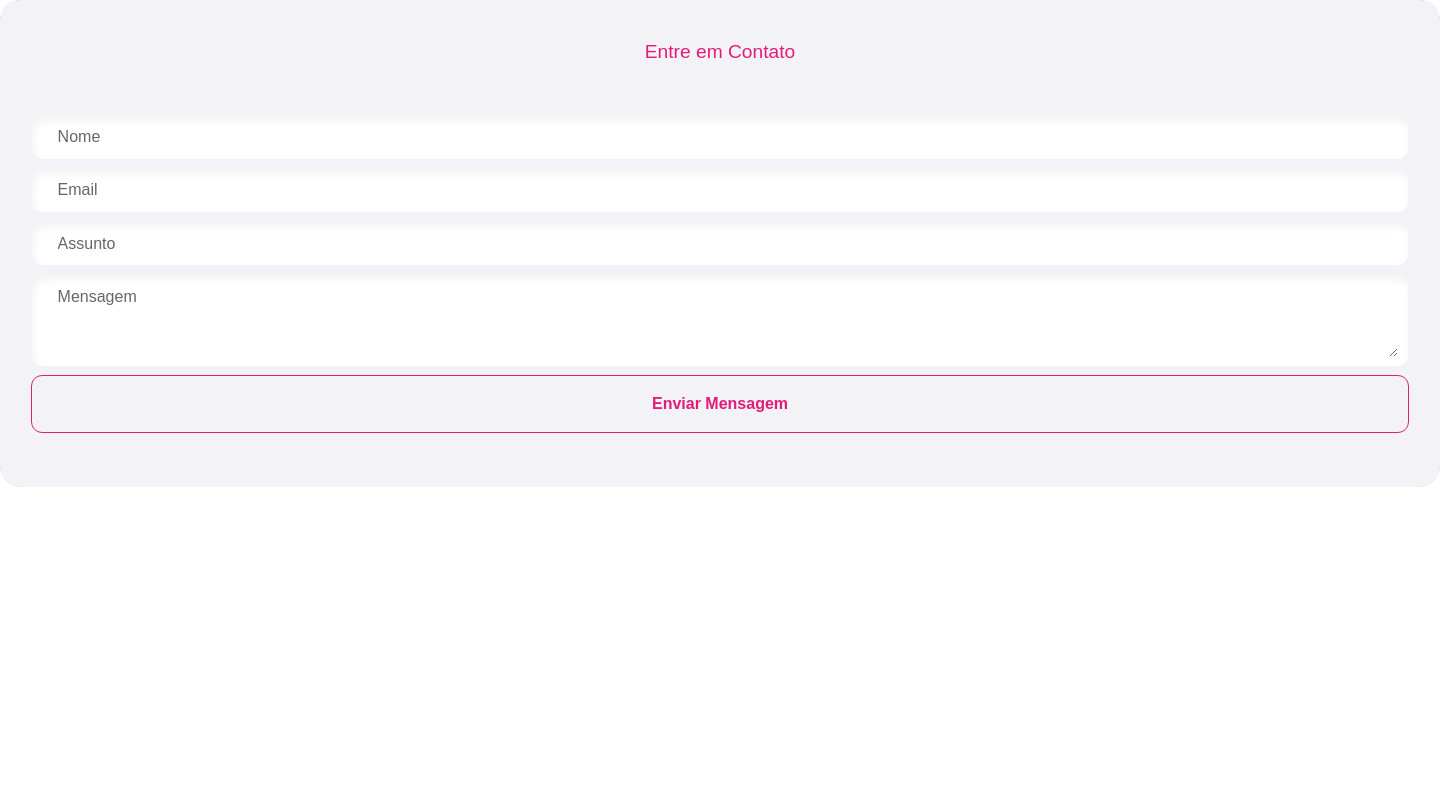
ContactForm › 429: mostra o erro do servidor, sem link mailto
In the field with placeholder "Nome": (720, 137) x1=42 y1=125 x2=1398 y2=149, type "Ada"
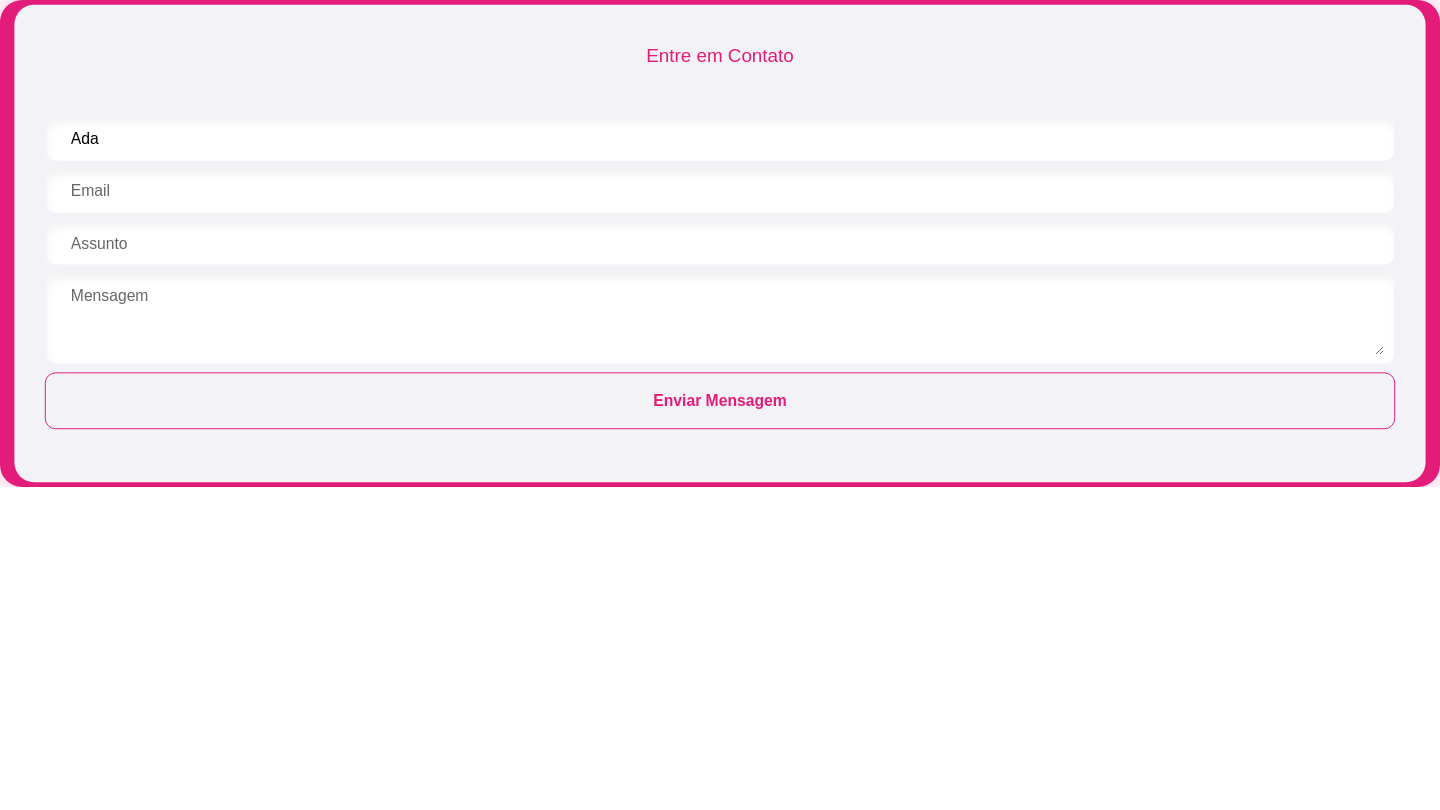
In the field with placeholder "Email": (720, 191) x1=55 y1=180 x2=1385 y2=203, type "ada@example.com"
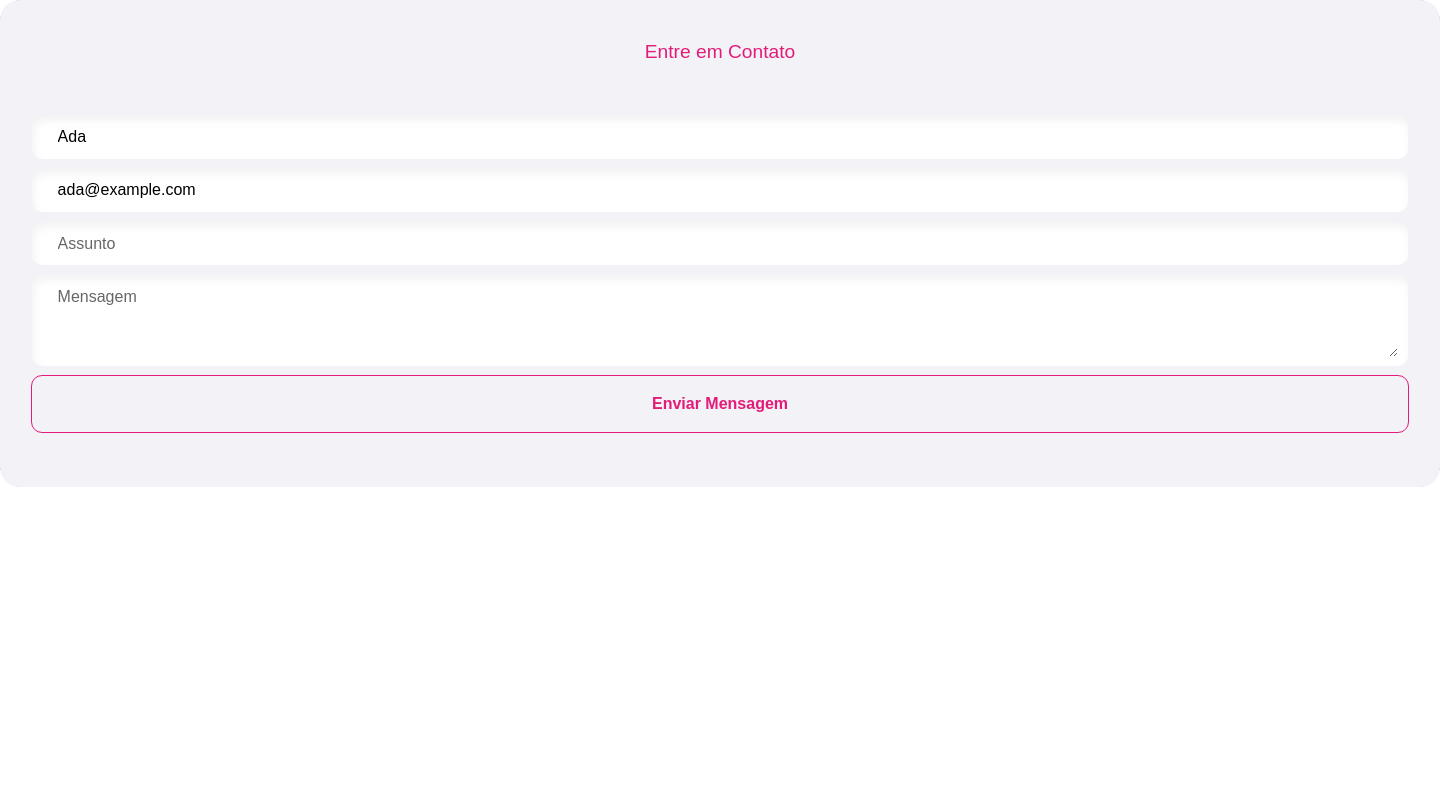
In the field with placeholder "Assunto": (720, 244) x1=42 y1=232 x2=1398 y2=256, type "Oi"
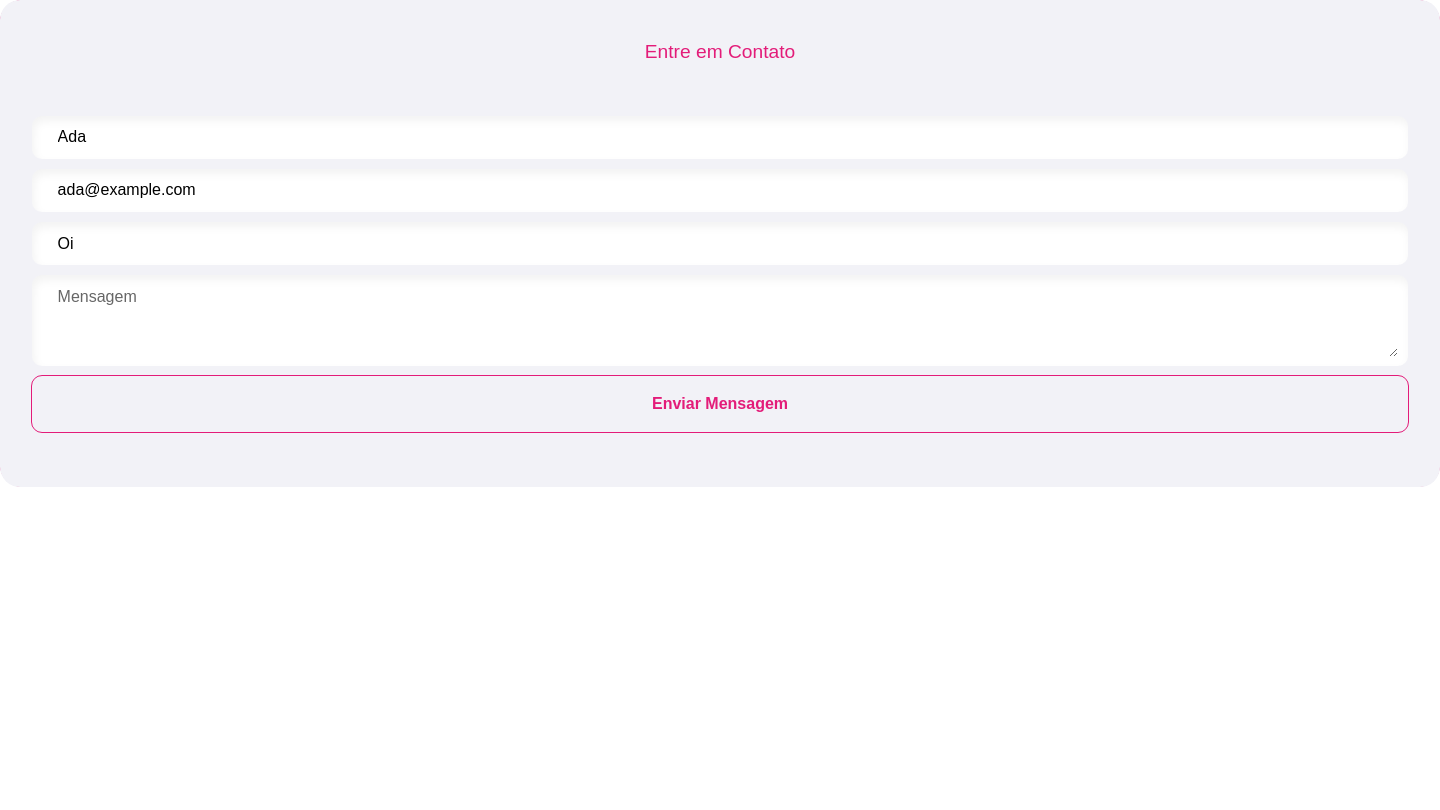
In the text box with placeholder "Mensagem": (720, 321) x1=42 y1=285 x2=1398 y2=357, type "Olá!"
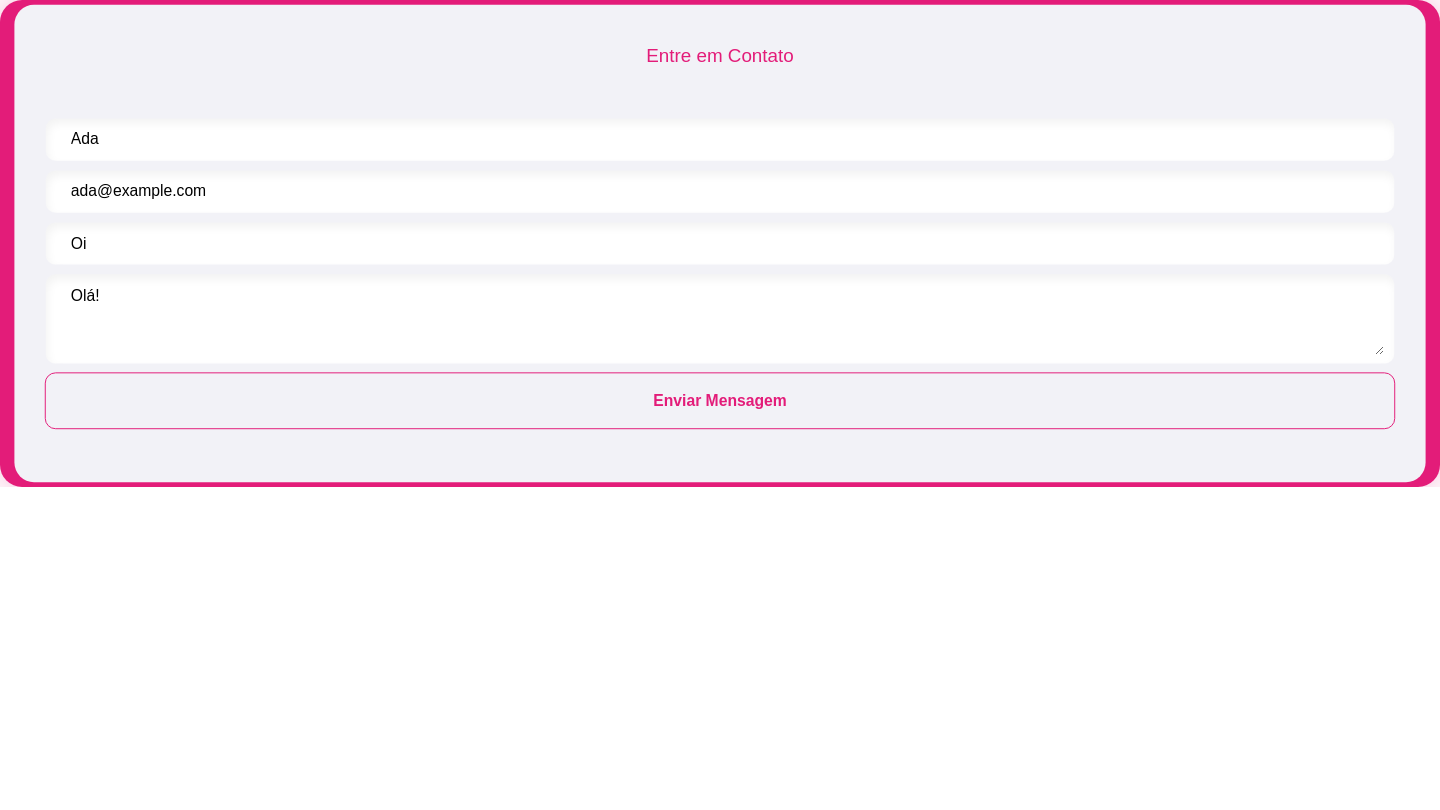
Click the button "Enviar Mensagem": (720, 401) x1=46 y1=374 x2=1394 y2=429
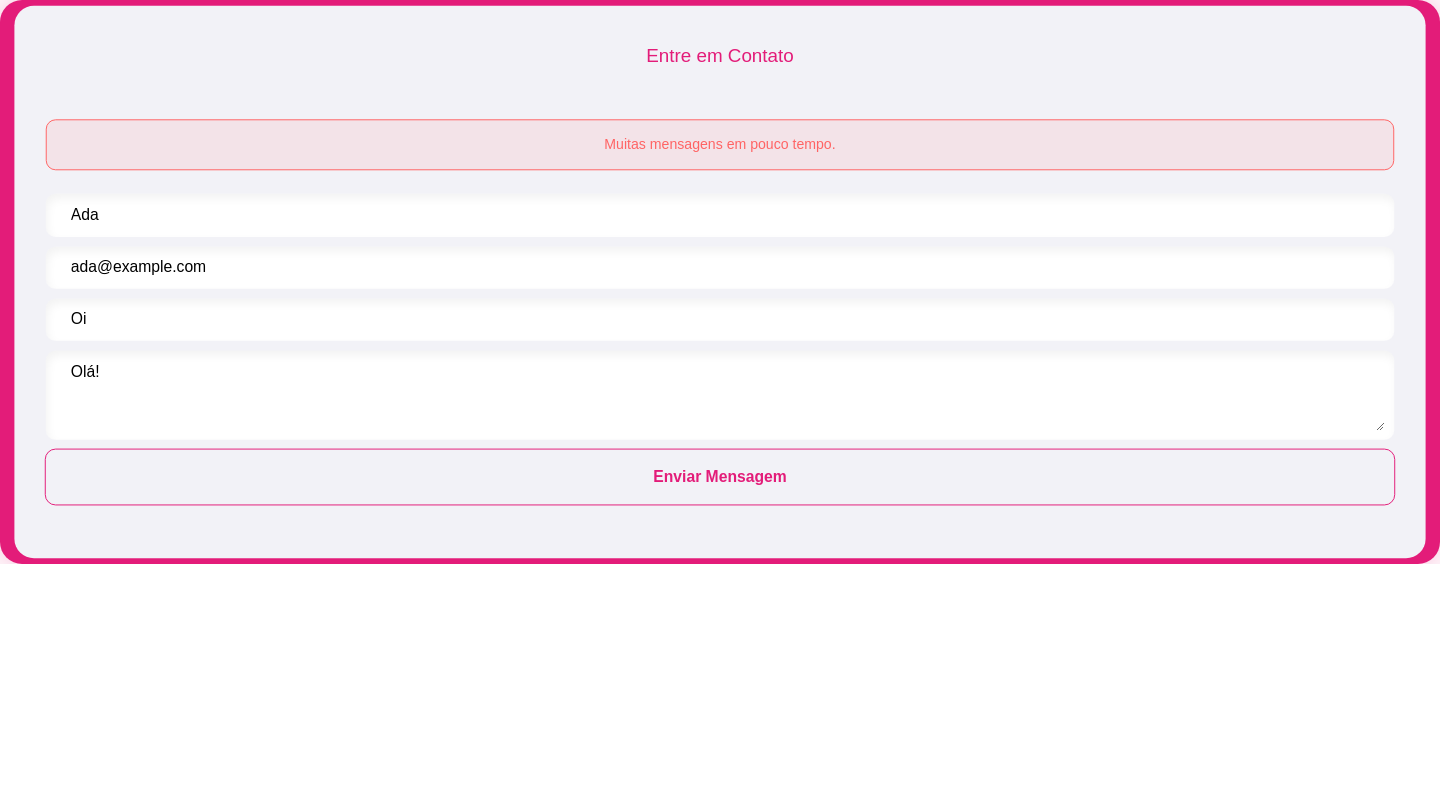
Now the text "Muitas mensagens em pouco tempo." is shown, box x1=46 y1=119 x2=1394 y2=170
